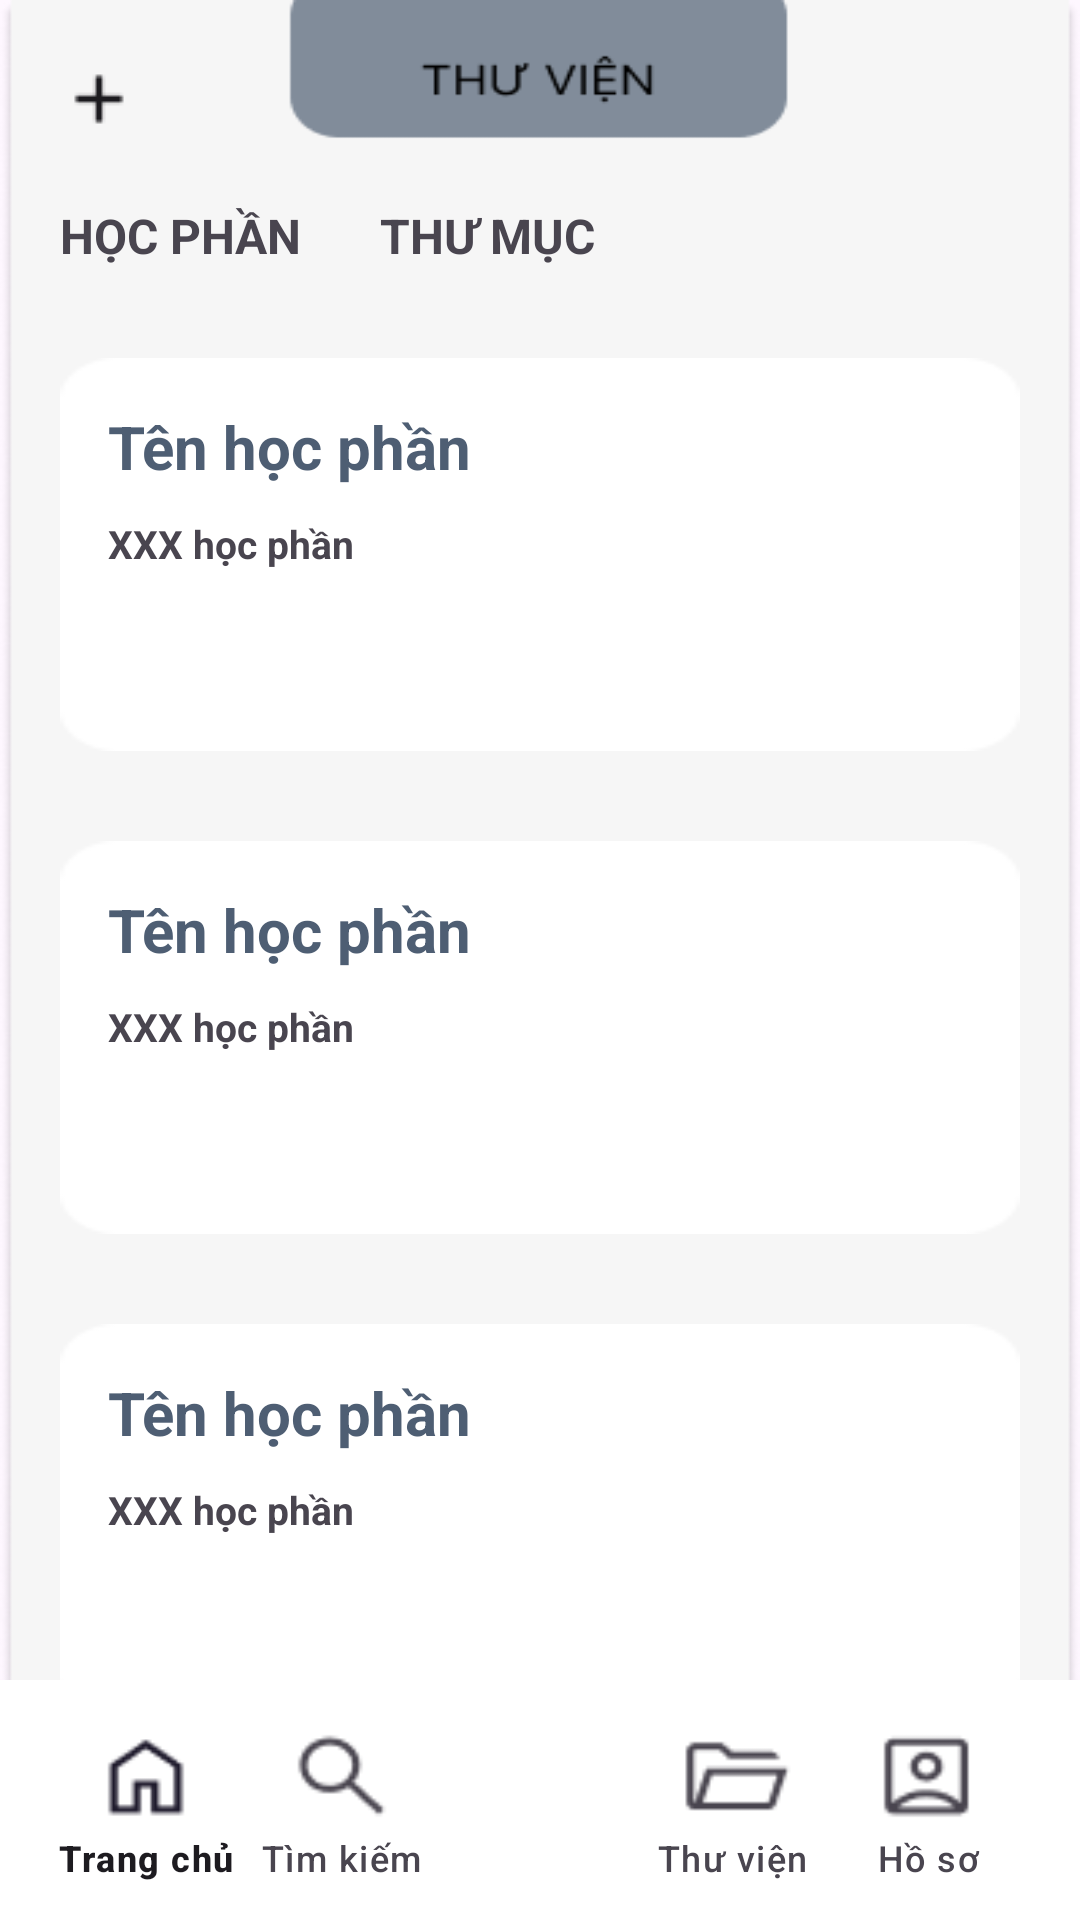

Icon bounding boxes for this 1080px×1920px phone screenshot, format Rect(x1, y1, x2, y2):
add: Rect(74, 74, 124, 124)
